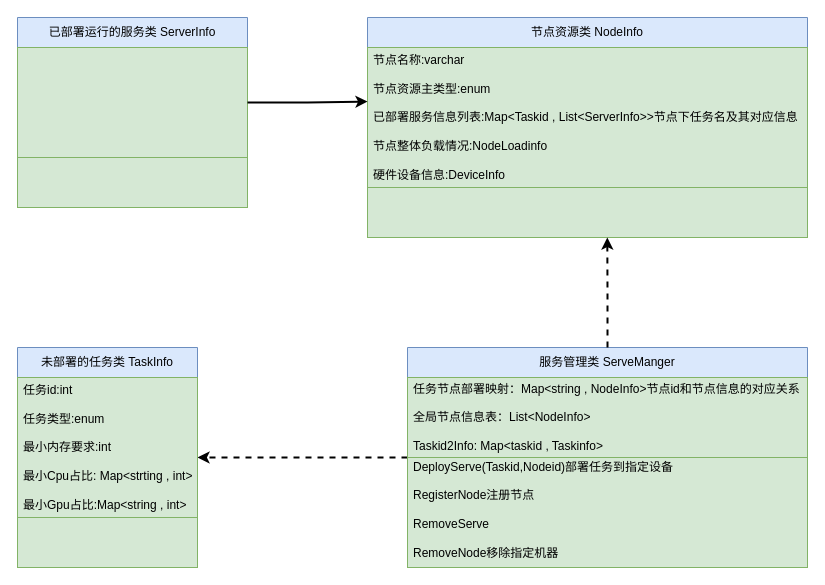
Some shapes in this 825 by 585 pixel diagram are drawn without their labels. Here are the shapes that lost their labels. From the top down, the centre of each, then its label:
(132,102): 服务id:int Taskid：int 可查询到服务来源的任务信息 UsedCpu:int 已使用的资源占比 UsedMem:int
(132,182): 获取信息 设置信息
(587,212): NotifyOverhead UpdateServerInfoList
(107,542): Set TaskInfo Get TaskInfo
